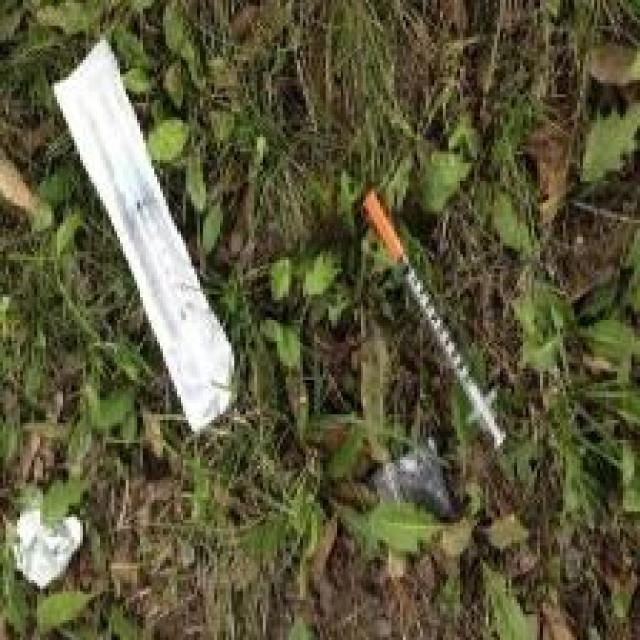syringe: (47, 30, 254, 444), (342, 166, 528, 455)
